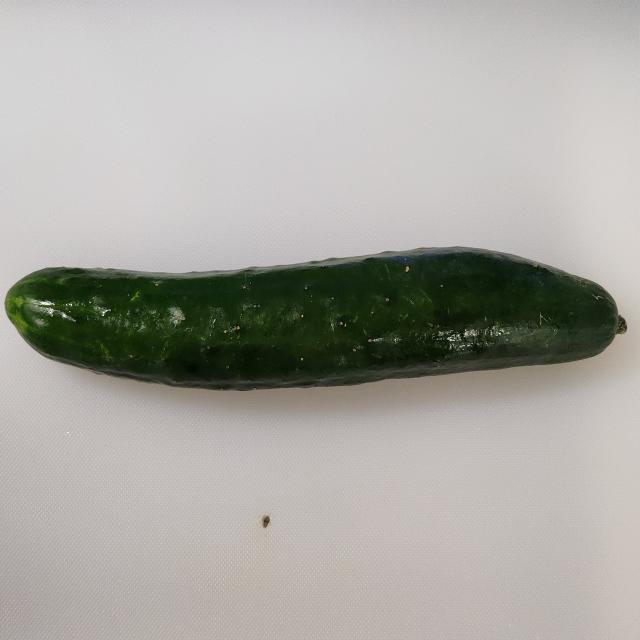cucumber: (5, 244, 627, 390)
